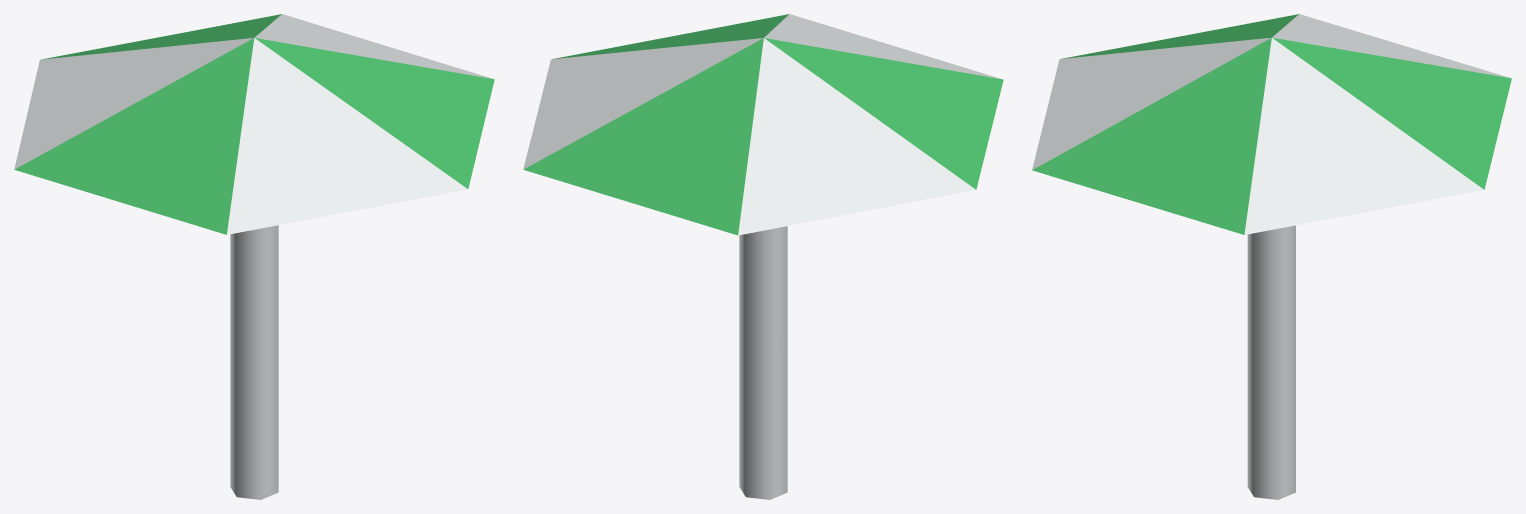
Rendered from umbrella02_s03.FBX.
3 views of the same model, side by side, from view 1: azimuth 30°, elevation 25°; view 2: azimuth 150°, elevation 25°; view 3: azimuth 270°, elevation 25° (orthographic).
Parts seen in each view (by area): view 1: umbrella02_s03; view 2: umbrella02_s03; view 3: umbrella02_s03.
Part boxes in pixels (<box>): umbrella02_s03: <box>14,14,494,499</box>; umbrella02_s03: <box>523,14,1003,499</box>; umbrella02_s03: <box>1032,14,1511,499</box>.
Size of the model in its own units: 249 by 228 by 237.
Materials: 1 (1 with a texture image).
